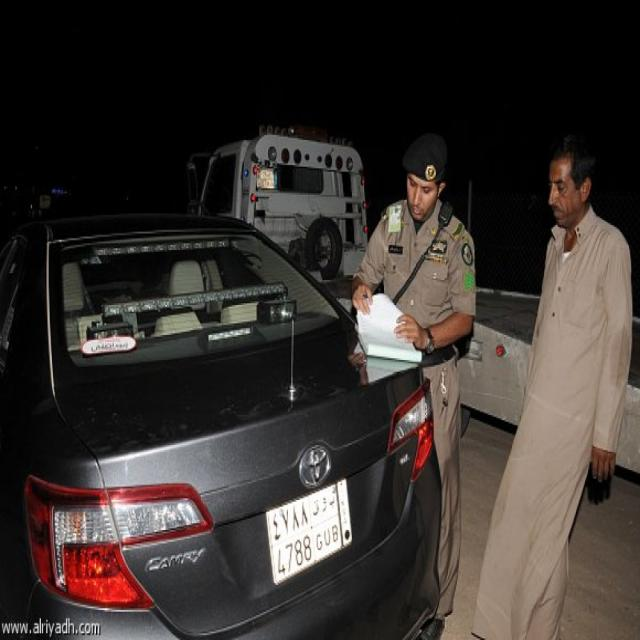license_plate: (265, 474, 355, 588)
